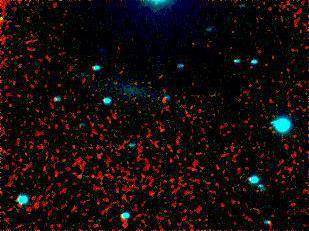star: (0, 10, 16, 40)
